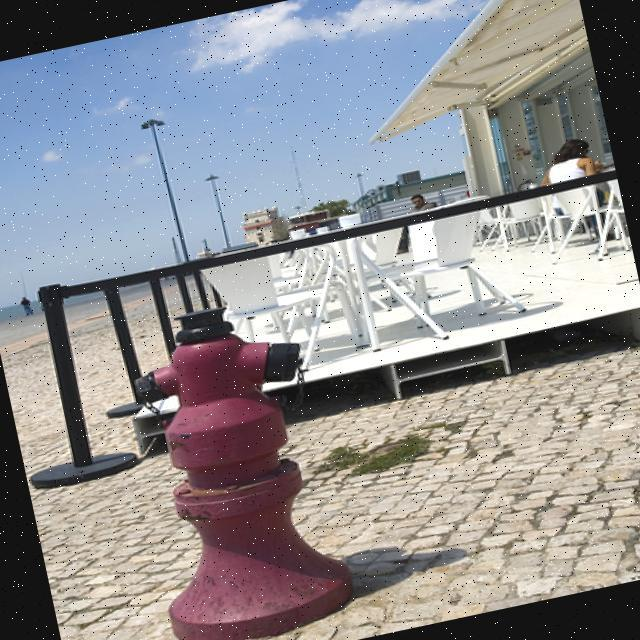fire_hydrant: (105, 291, 361, 640)
